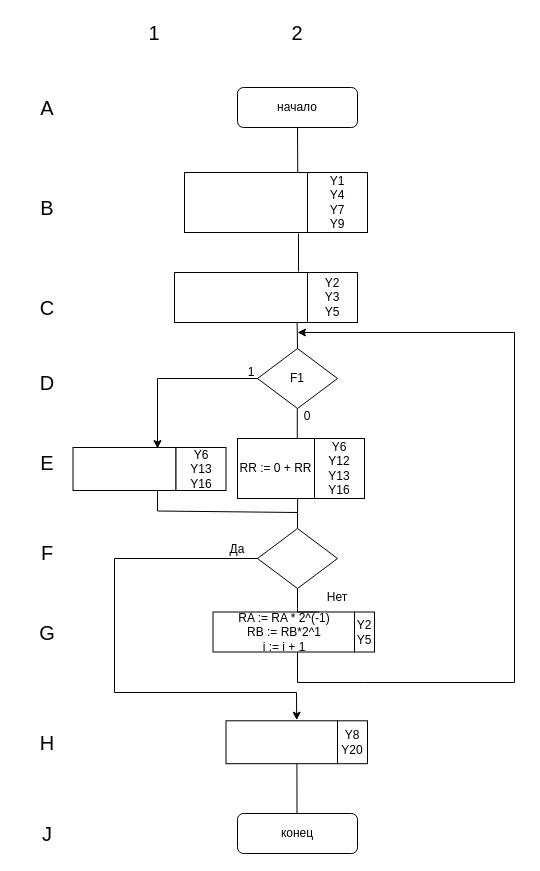
This 540x871 diagram has some shape labels left out. The shapes that lost their labels are listed below. From the top down, each one's centre as x and y in pixels, then its label:
point 246,202: RA := A RB := B RR := 0 RZN := A[3] ⊕ B[3]
point 244,297: RA := RA*2^1 RB := RB*2^1 i := 0
point 124,468: RR := 0+RA + RR
point 297,558: i == 2 FC
point 281,742: RR := RR * 2^(-1) RR[4] := RZN
